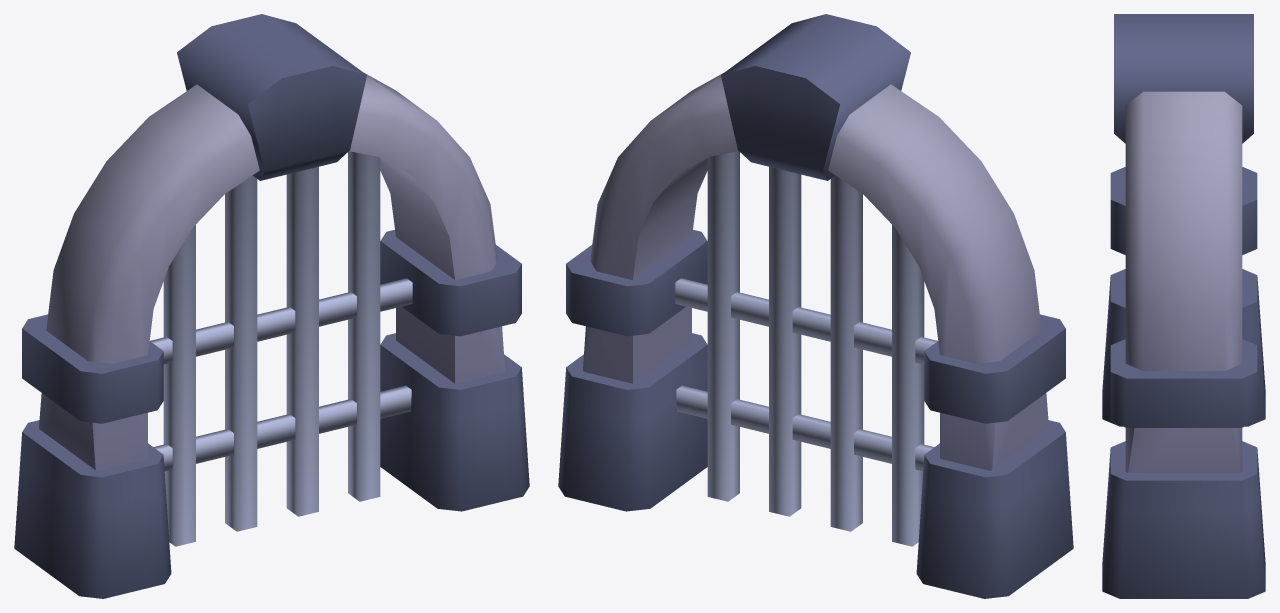
File: gate-metal-bars.glb
3 views of the same model, side by side, from view 1: azimuth 30°, elevation 25°; view 2: azimuth 150°, elevation 25°; view 3: azimuth 270°, elevation 25° (orthographic).
Parts seen in each view (by area): view 1: gate-metal-bars, gate; view 2: gate-metal-bars, gate; view 3: gate-metal-bars.
Boxes of the visible parts, left/top/right/bottom form: gate-metal-bars: left=14, top=14, right=529, bottom=598; gate: left=150, top=151, right=412, bottom=546; gate-metal-bars: left=558, top=14, right=1073, bottom=598; gate: left=675, top=151, right=937, bottom=546; gate-metal-bars: left=1102, top=14, right=1265, bottom=598.
Size of the model in its own units: 4.4 by 4.4 by 1.4.
Materials: 1 (1 with a texture image).
